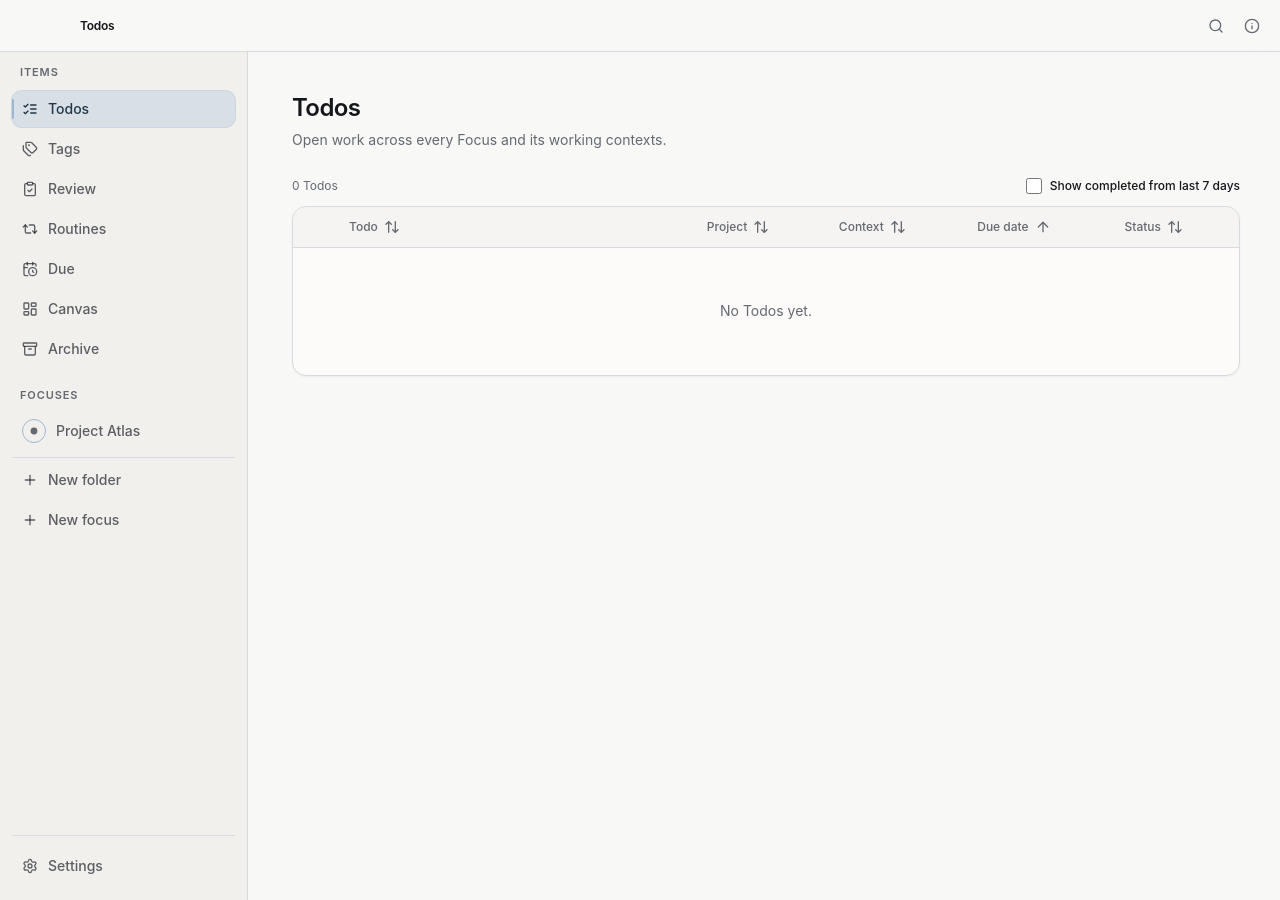
Test: App › pins and unpins a Focus through checked primary-sidebar context menus
Right-click the button "Project Atlas" at [124, 431], box [12,413,235,449]
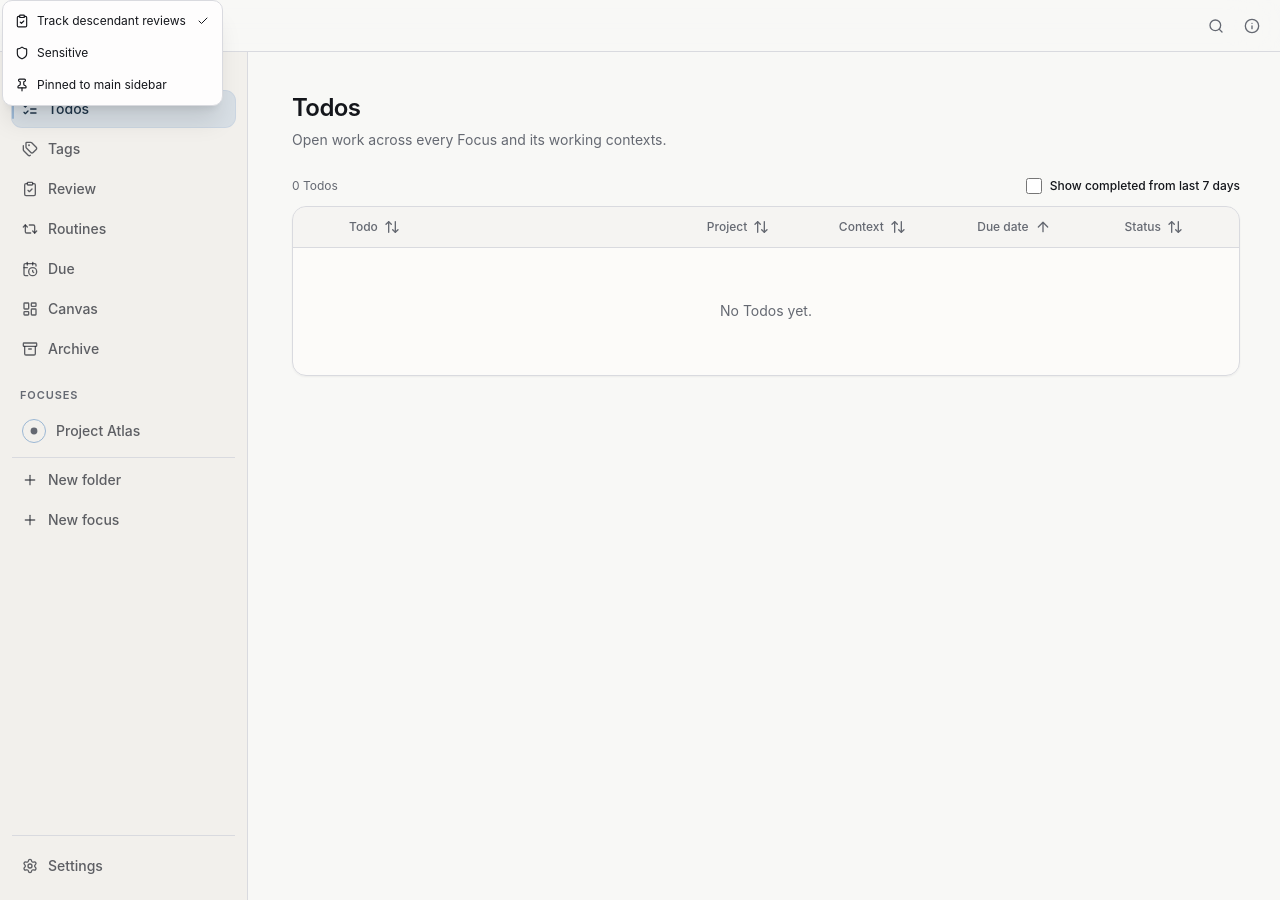
Click the menu item "Pinned to main sidebar" at [91, 84], box [15,77,167,92]
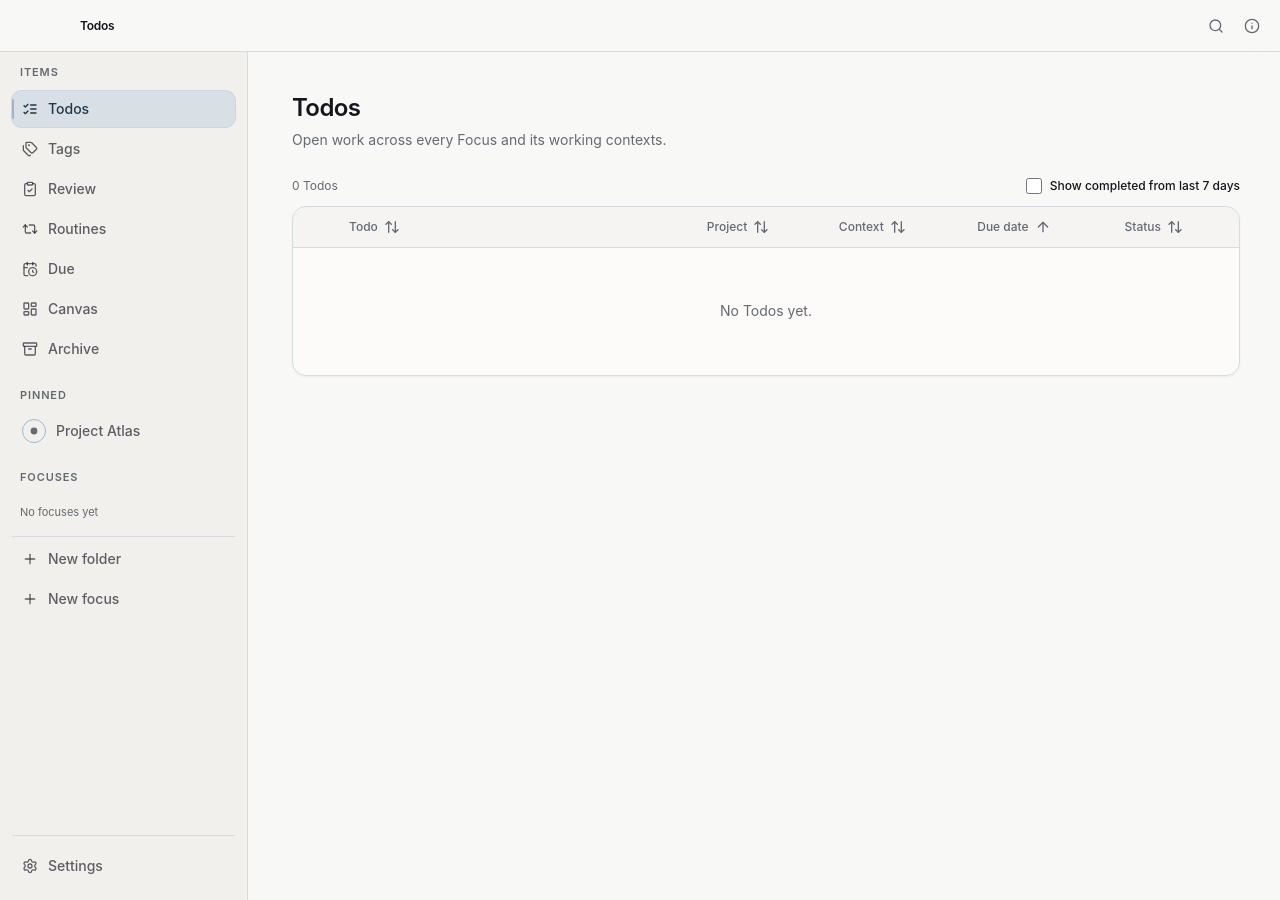
Now the text "Pinned" is shown, box [20,388,67,402]
Right-click the button with aria-label "Project Atlas, pinned Focus" at [124, 431], box [12,413,235,449]
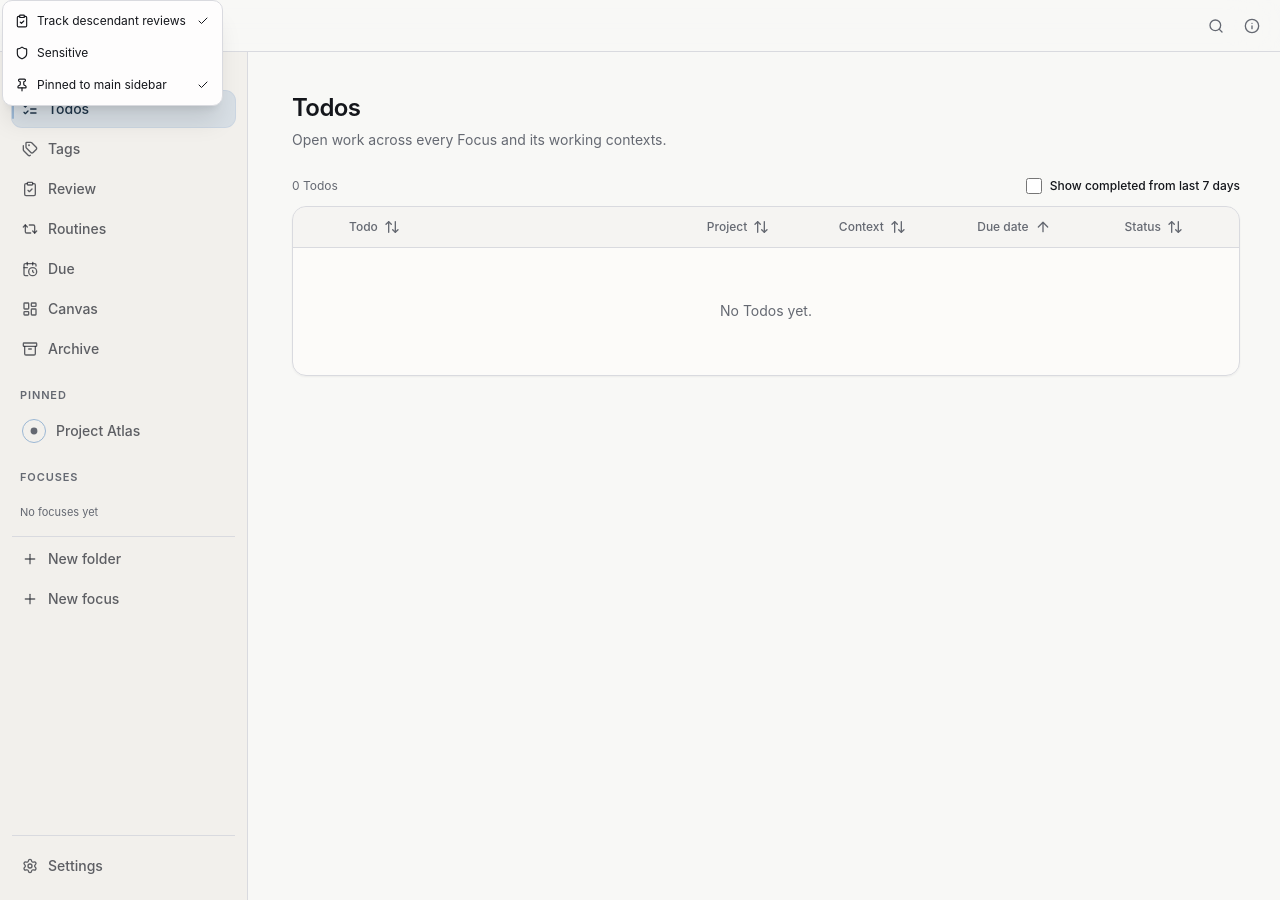
Now the menu item "Pinned to main sidebar" has attribute data-state="checked"
Click the menu item "Pinned to main sidebar" at [112, 84], box [15,77,209,92]
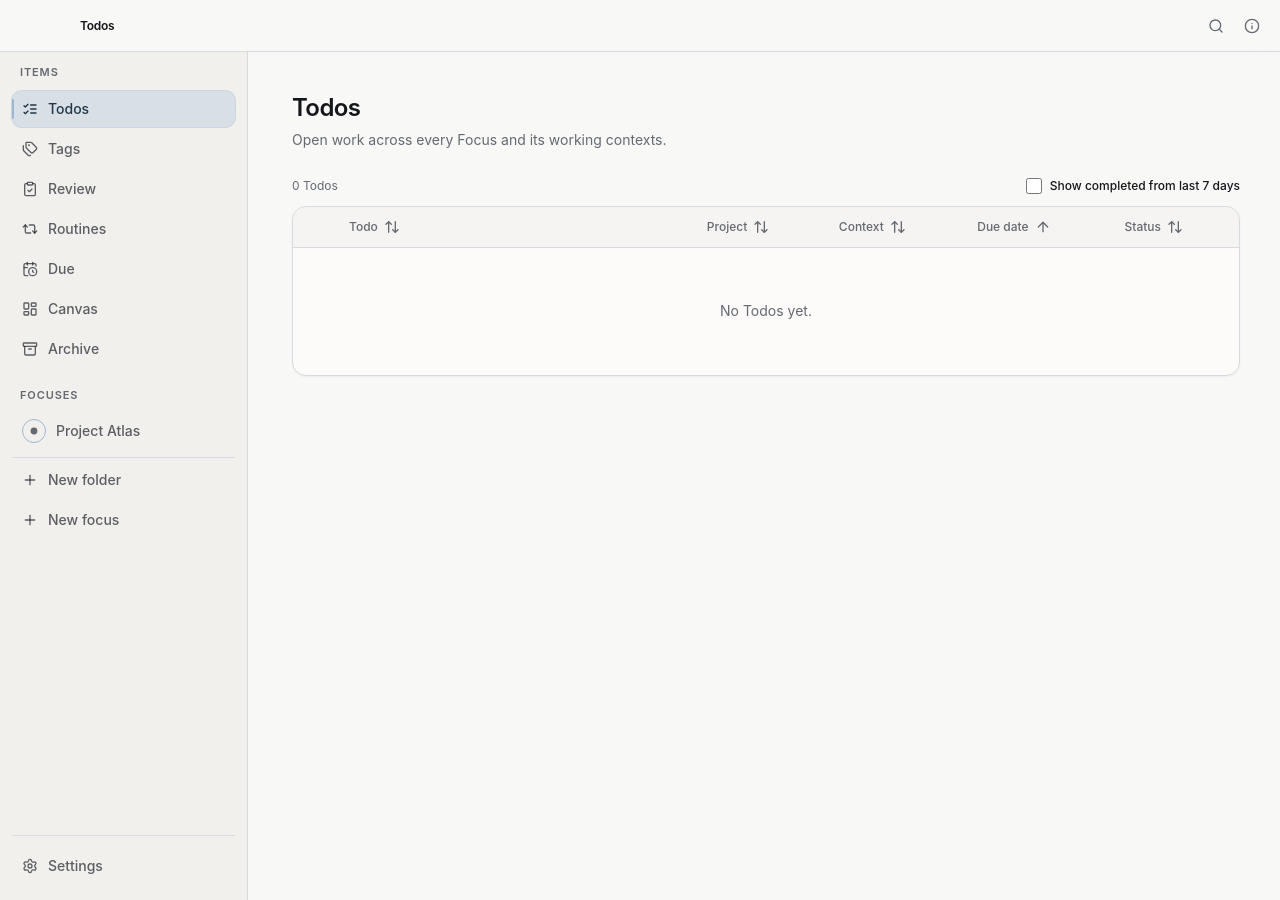
Expected: the button "Project Atlas" is shown, [12,413,235,449]
Now the text "Pinned" is gone
